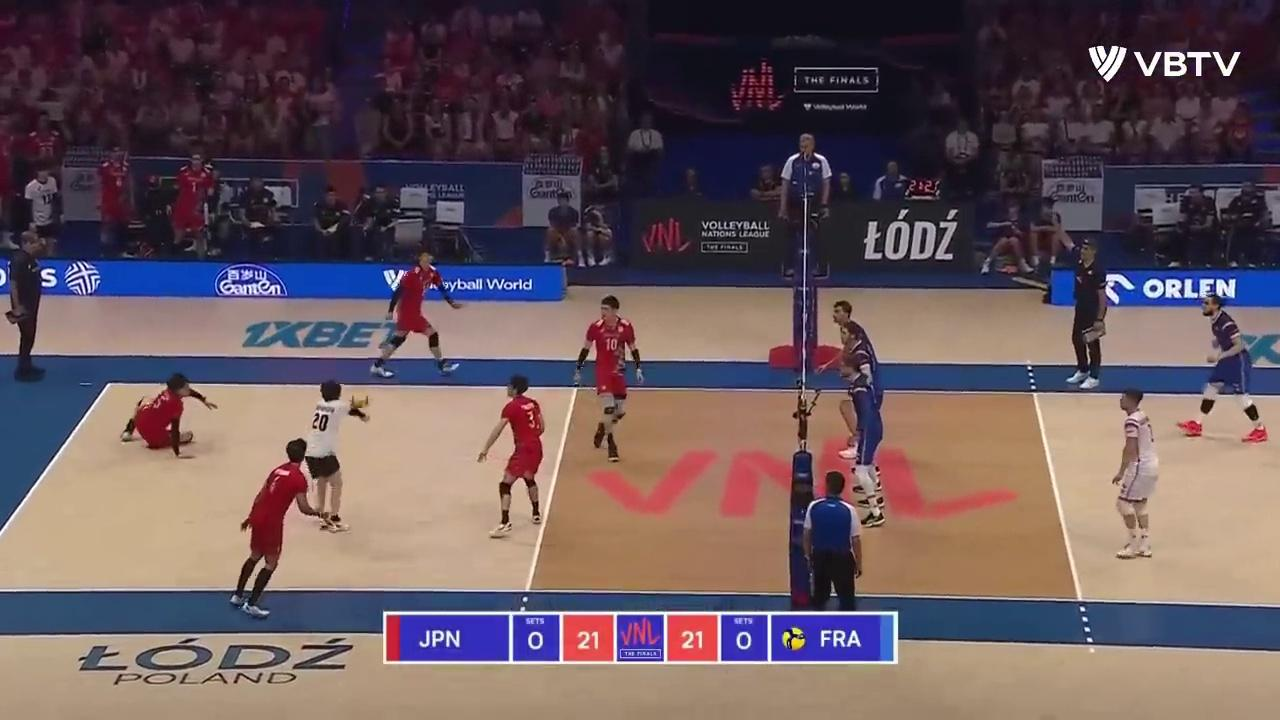ball: (351, 391, 372, 410)
